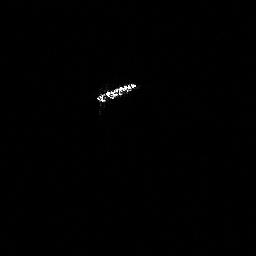ship: (97, 82, 137, 102)
